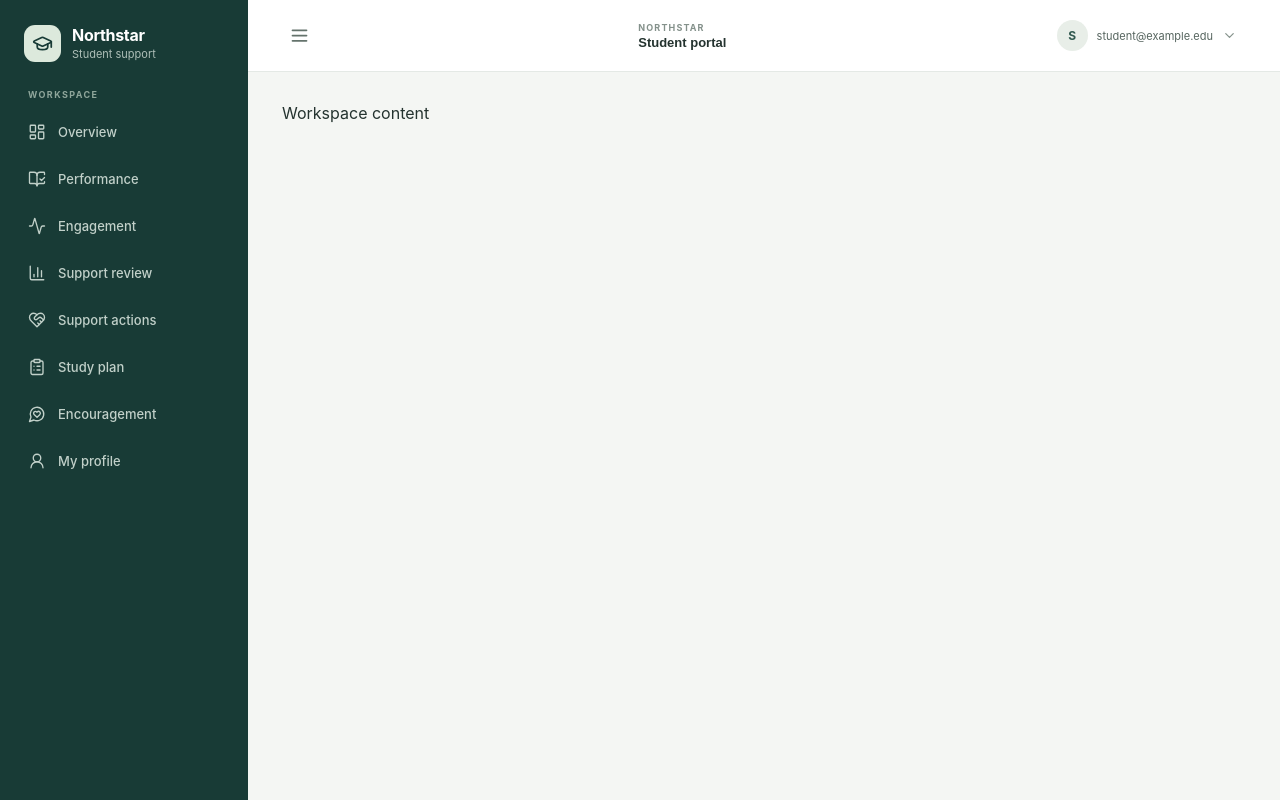
Test: student and coordinator frontend flows › opens an accessible account menu and dismisses it with Escape or an outside click
This screenshot has width=1280, height=800.
Step 1. Click the button "S student@example.edu" → {"x": 1147, "y": 36}, box [1048,14,1246,57]
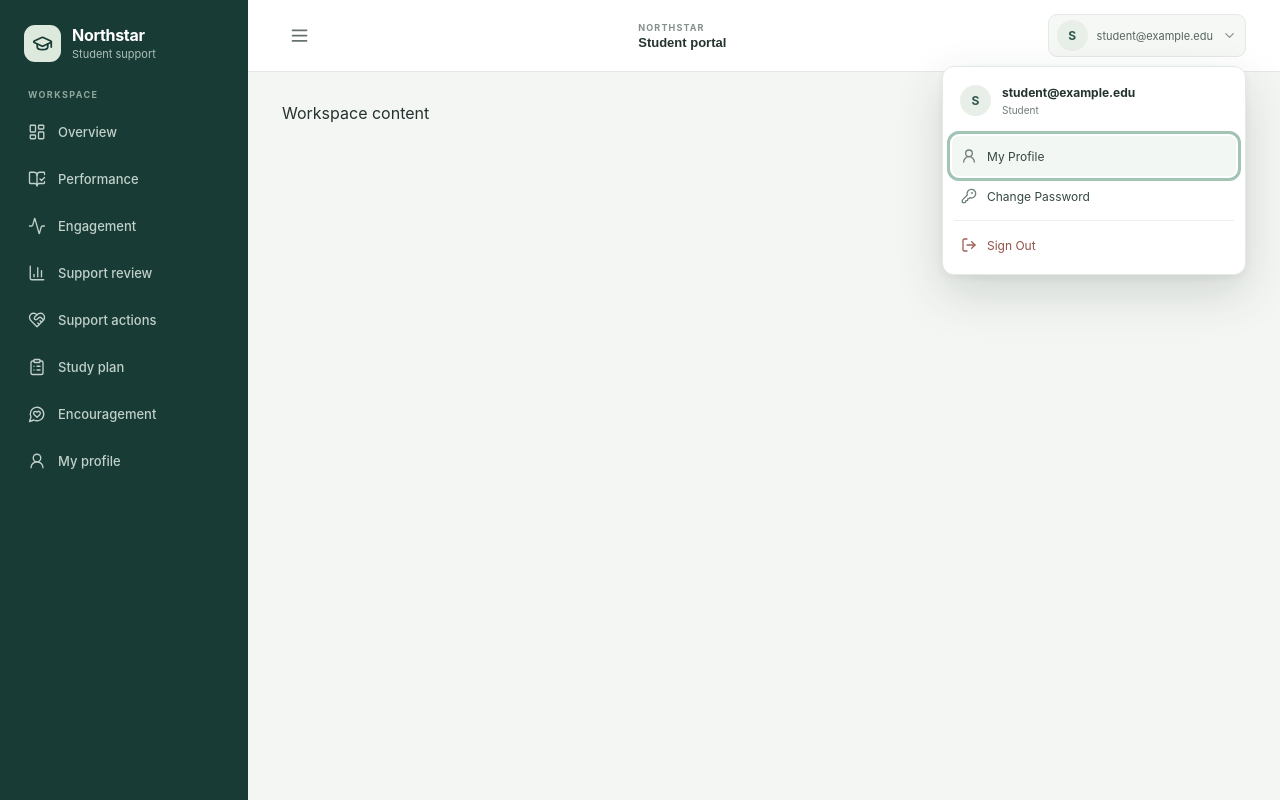
Expected: the menu named "Account options" is shown, [942,66,1246,275]
Expected: the text "Student" is shown, [1002,104,1039,116]
Step 2. Press Arrowdown
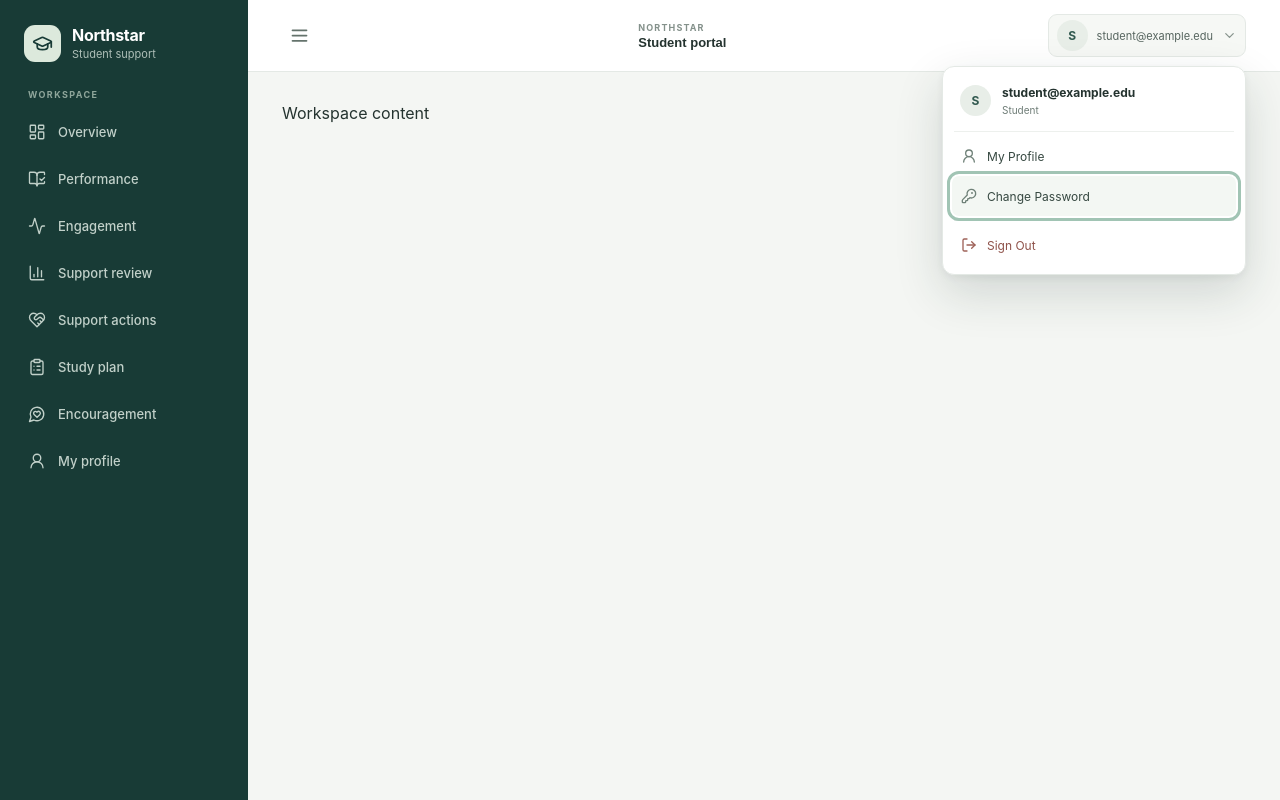
Step 3. Press Escape
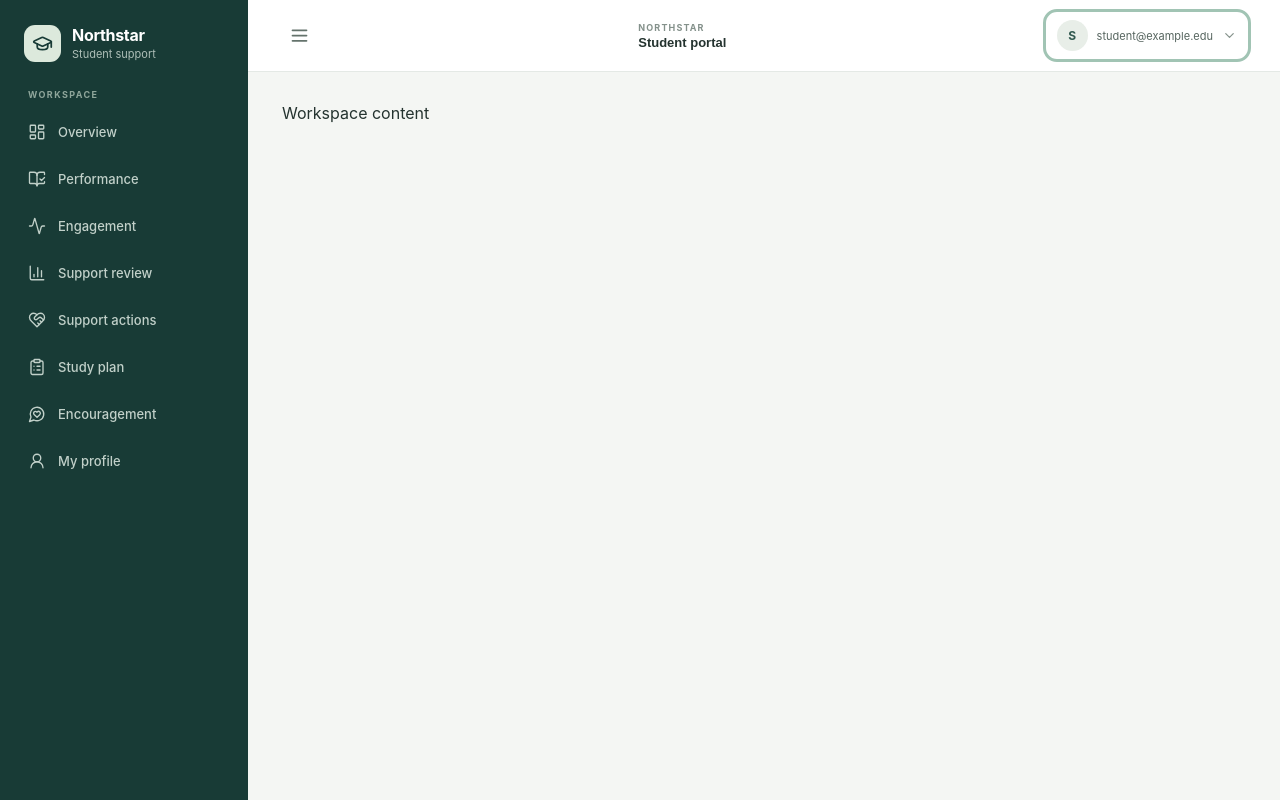
Step 4. Click the button "S student@example.edu" → {"x": 1147, "y": 36}, box [1048,14,1246,57]
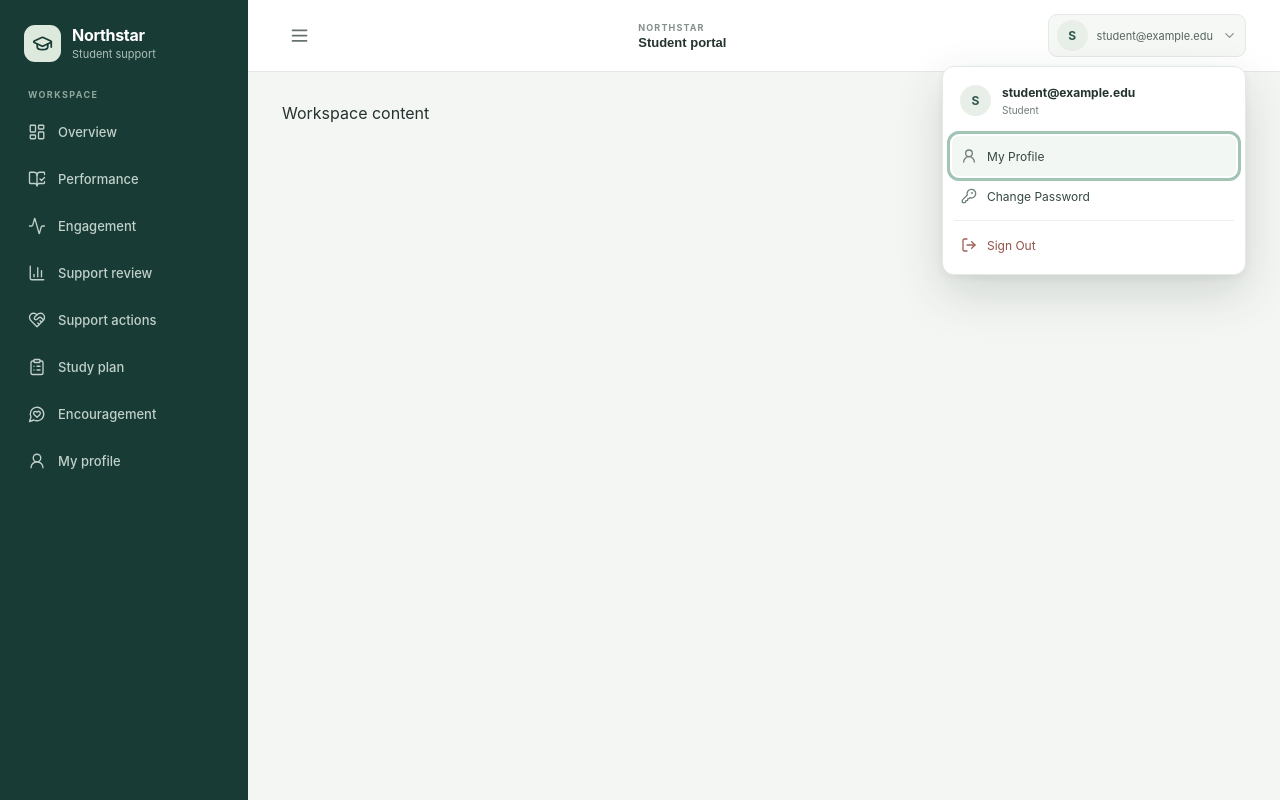
Expected: the menu is shown, [942,66,1246,275]
Step 5. Click the element that starts with "Northstar" → {"x": 640, "y": 400}, box [0,0,1279,799]
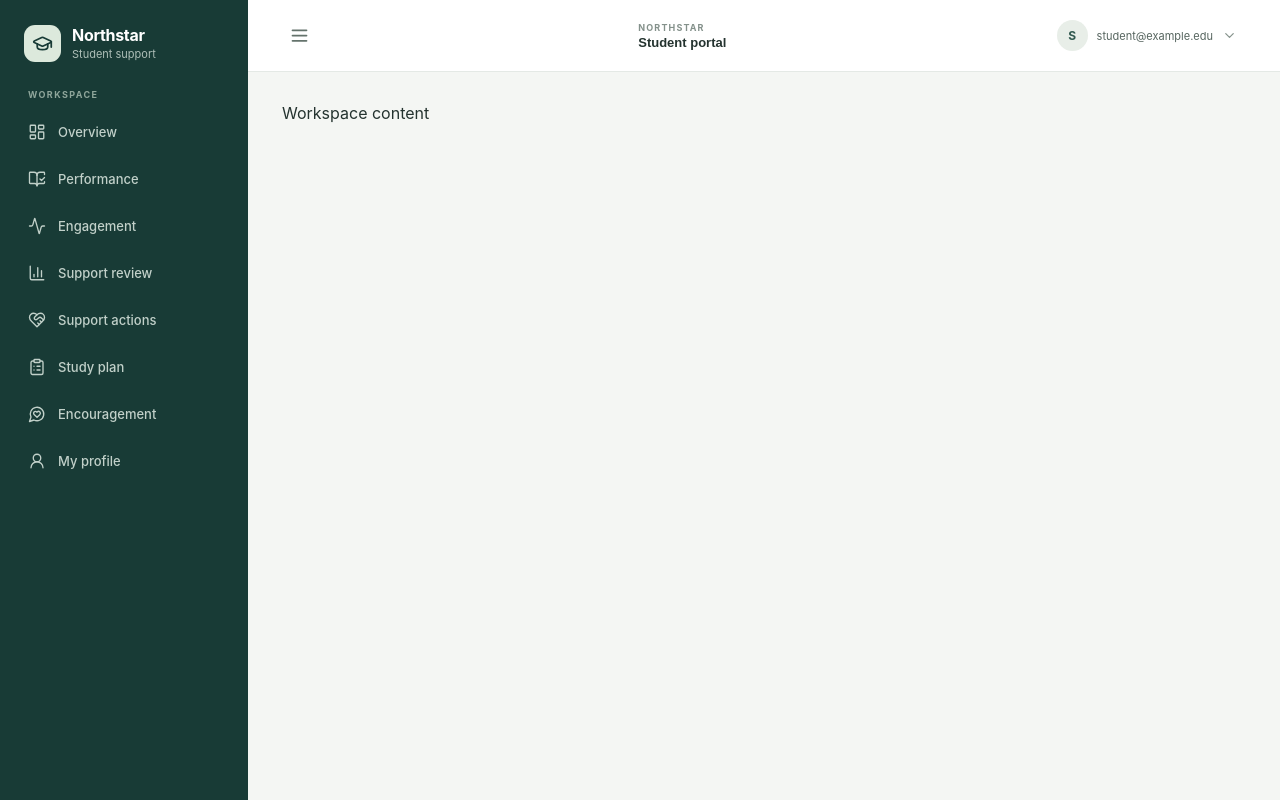
Expected: the menu is gone
